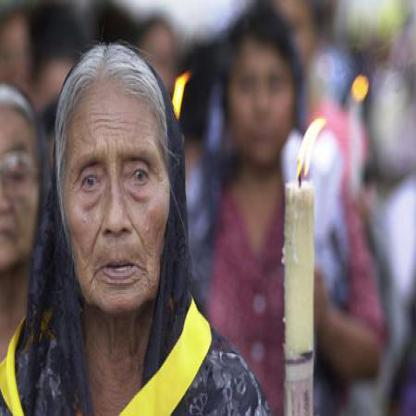face: (59, 57, 172, 319), (230, 30, 294, 166), (1, 98, 47, 271), (2, 12, 36, 93)
